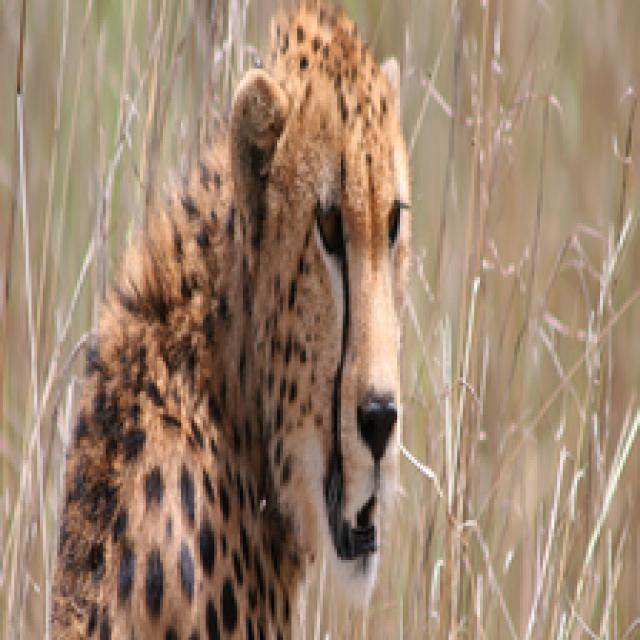cheetah: (36, 5, 460, 629)
